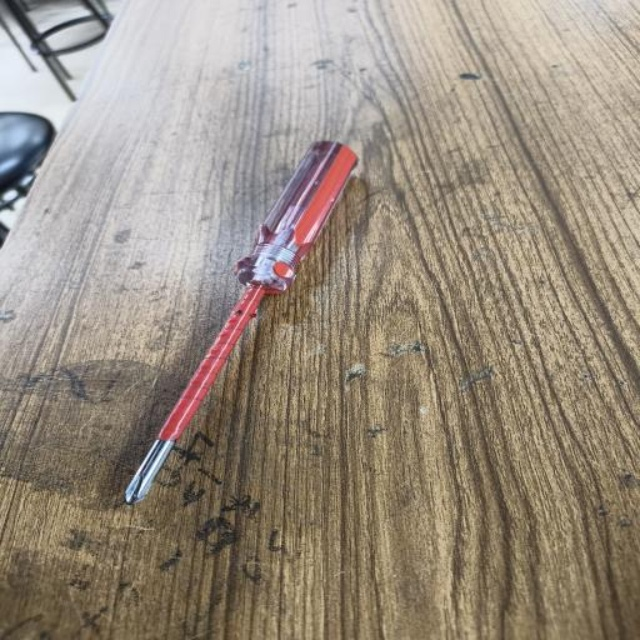screwdriver: (118, 138, 360, 507)
